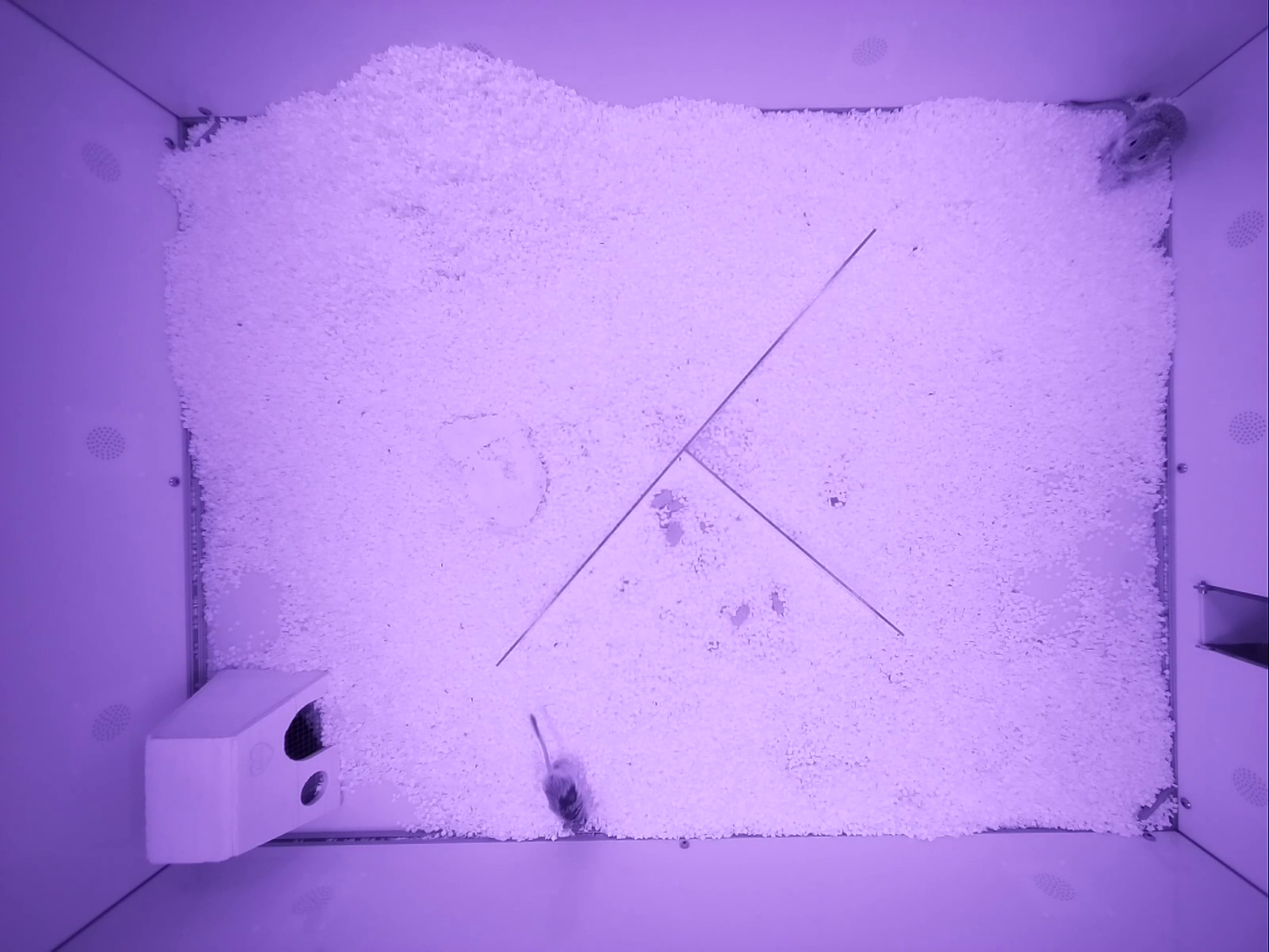adult_back: (1068, 100, 1187, 186), (531, 714, 587, 832)
